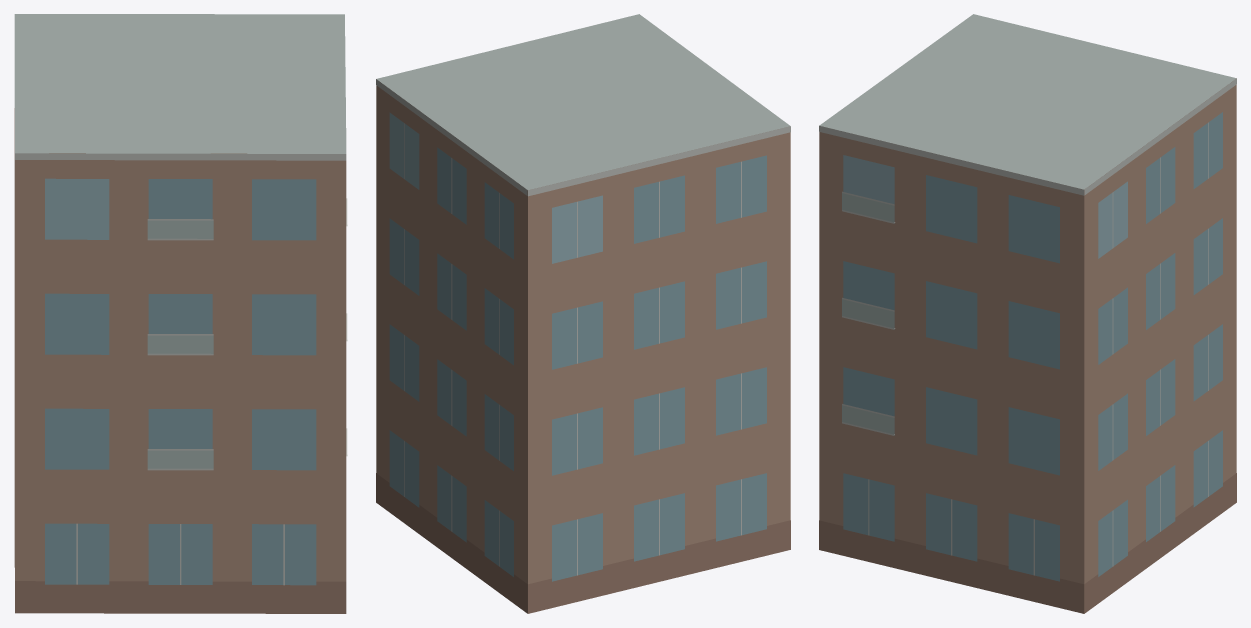
File: survey-upis-32973440.glb
The picture shows the model from 3 angles, left to right: view 1: azimuth 30°, elevation 25°; view 2: azimuth 150°, elevation 25°; view 3: azimuth 270°, elevation 25°; orthographic projection. The views are drawn at different scales.
Visible parts, largest first — view 1: survey-upis-32973440.tmp; view 2: survey-upis-32973440.tmp; view 3: survey-upis-32973440.tmp.
Boxes of the visible parts, x1,y1,x2,y2 form: survey-upis-32973440.tmp: (14,14,347,613); survey-upis-32973440.tmp: (376,14,790,613); survey-upis-32973440.tmp: (819,14,1236,613).
Size of the model in its own units: 15.01 by 16.9 by 15.09.
